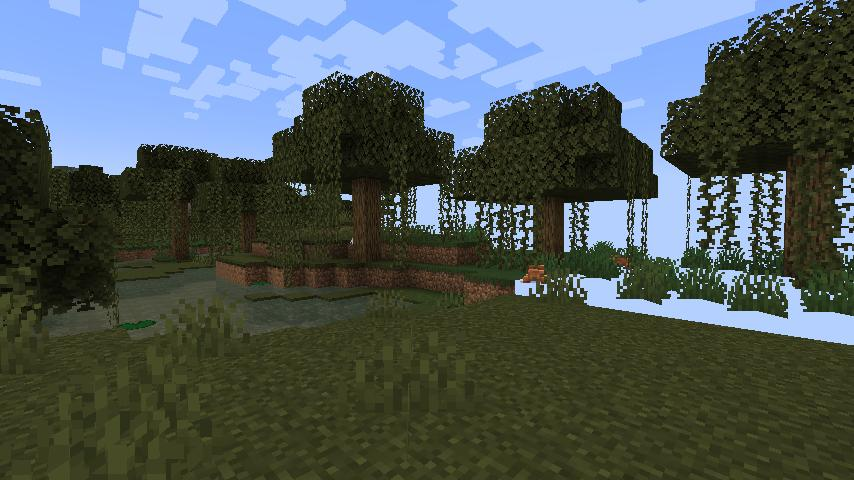frog: (521, 262, 549, 284), (609, 252, 635, 270)
